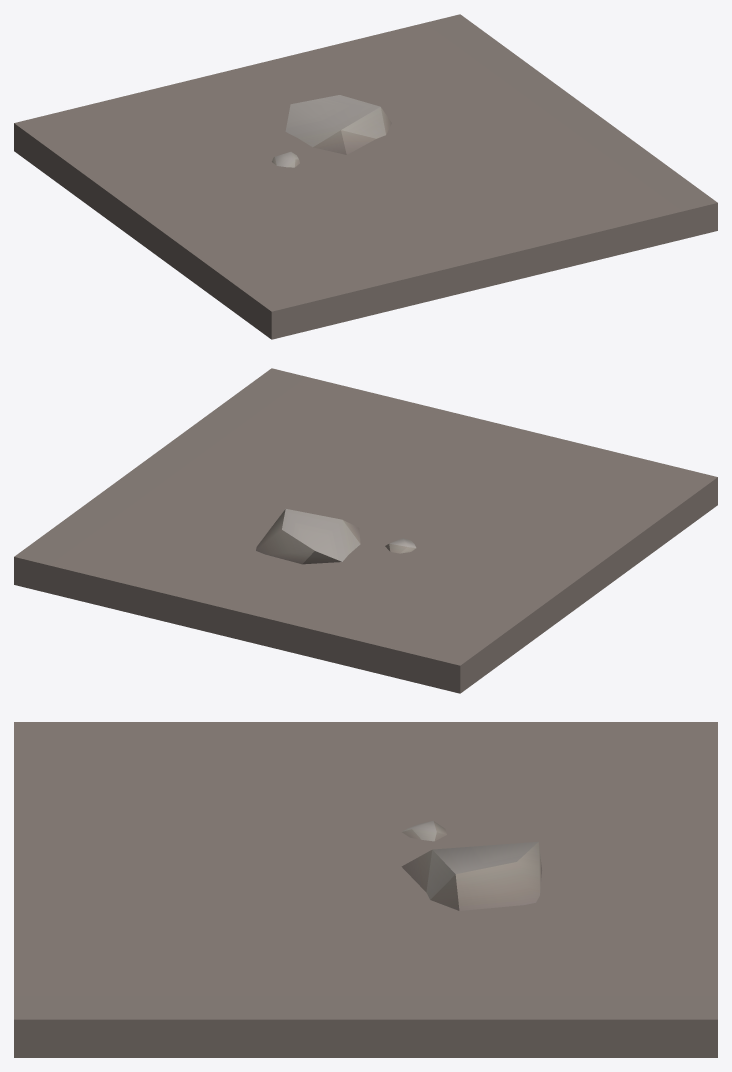
Rendered from floor-dirt-small-c-gltf.glb.
3 views of the same model, one above another, from view 1: azimuth 30°, elevation 25°; view 2: azimuth 150°, elevation 25°; view 3: azimuth 270°, elevation 25° (orthographic). The views are drawn at different scales.
Parts seen in each view (by area): view 1: floor_dirt_small_C; view 2: floor_dirt_small_C; view 3: floor_dirt_small_C.
Boxes of the visible parts, <box> form: floor_dirt_small_C: <box>14,14,717,339</box>; floor_dirt_small_C: <box>14,368,717,693</box>; floor_dirt_small_C: <box>14,722,717,1057</box>.
Size of the model in its own units: 2 by 0.2085 by 2.
1 material, 1 textured.
